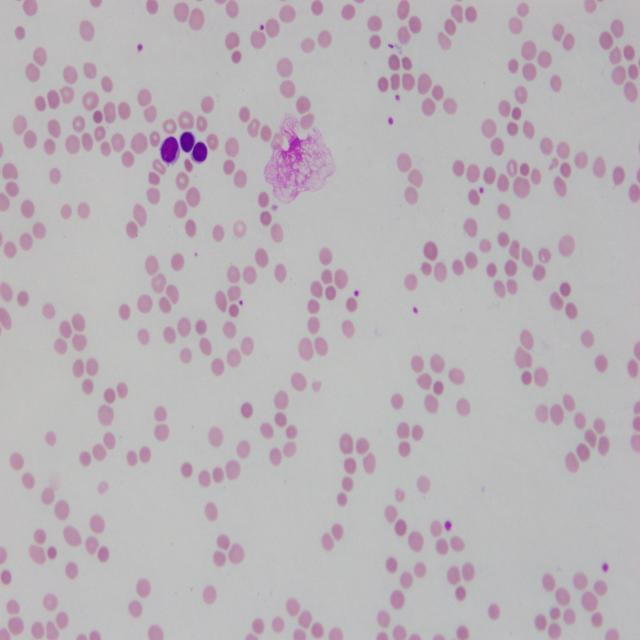cell: (160, 137, 179, 163), (192, 142, 208, 163), (180, 132, 195, 152)
